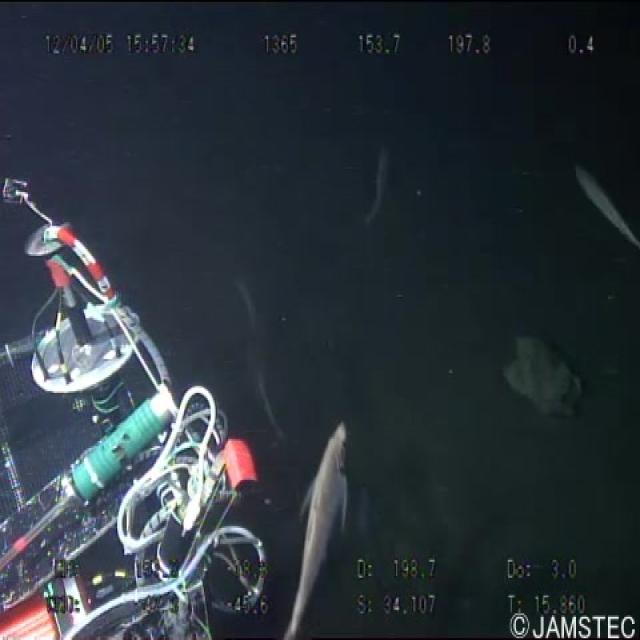plastic: (496, 327, 584, 421)
